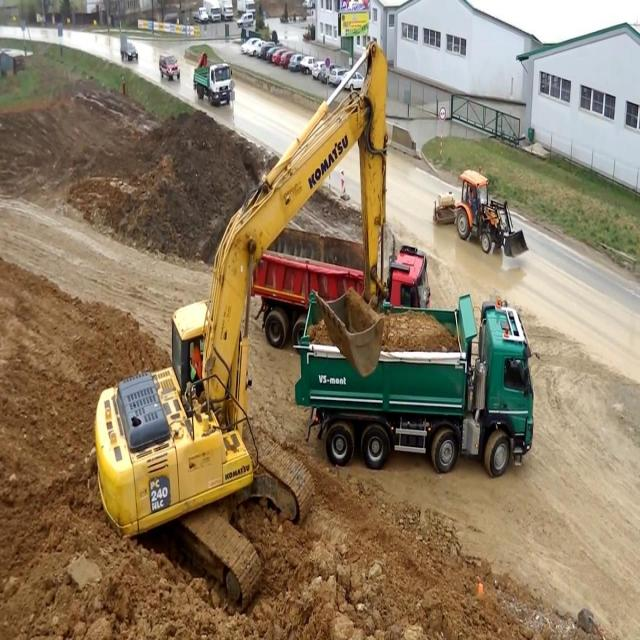dump truck: (304, 293, 537, 487), (258, 223, 431, 349), (193, 52, 233, 110)
excavator: (95, 41, 389, 618)
